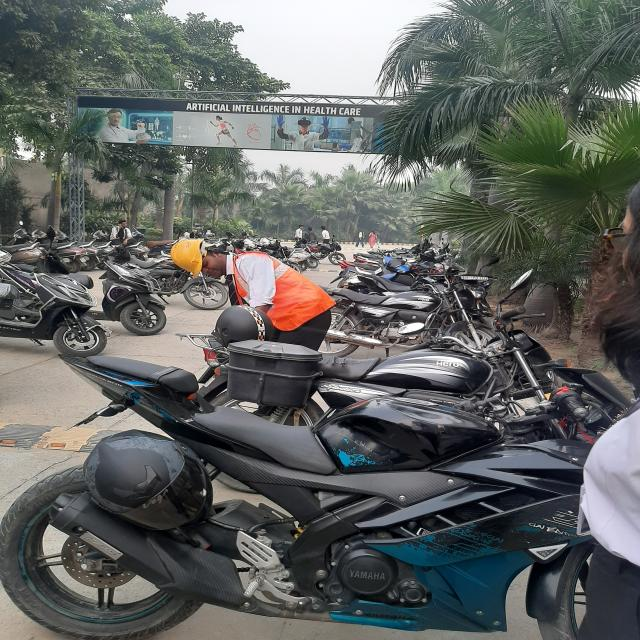safe: (165, 231, 335, 348)
